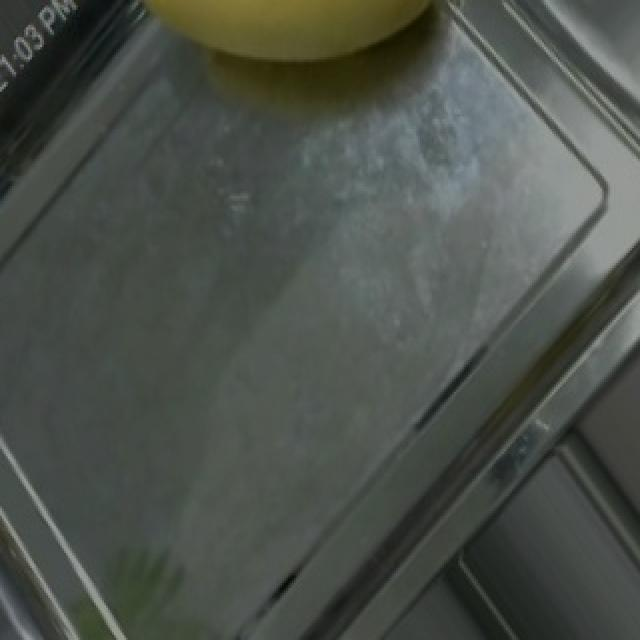fruit: (110, 0, 464, 131)
